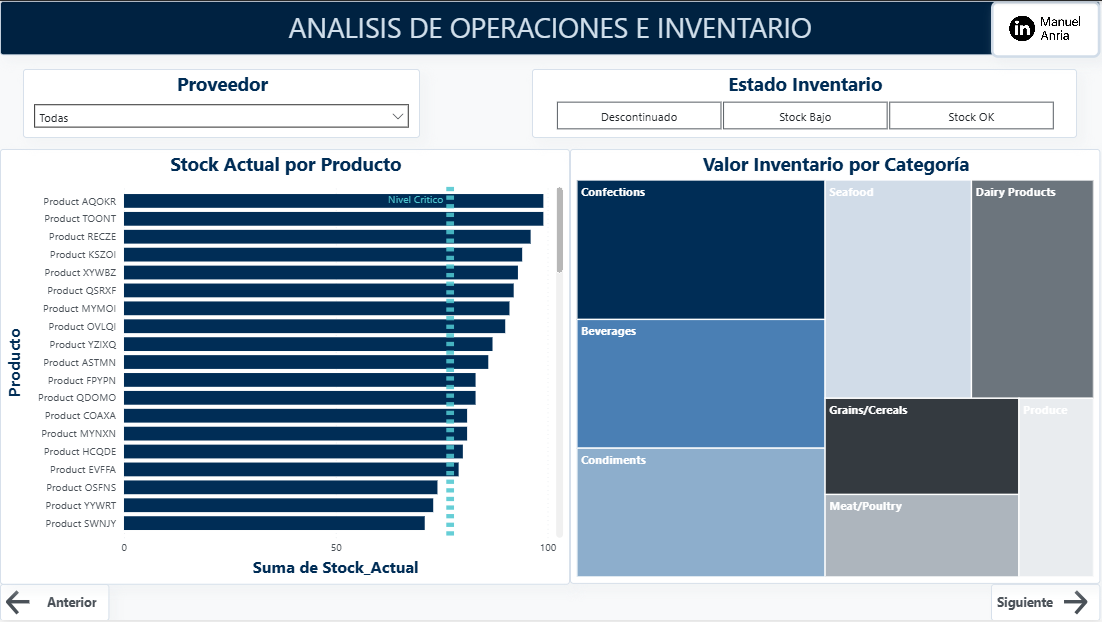

The dashboard page shown, as its layout file describes it:
{"tool":"powerbi","page":{"name":"Operaciones e Inventario","canvas":[1280,720],"ordinal":2},"visuals":[{"type":"textbox","box":[0,0,1277.7,62.7],"z":0},{"type":"actionButton","title":"Página Siguiente","box":[1151.1,677,126.6,43],"z":1000},{"type":"actionButton","title":"Página Siguiente","box":[0,677,126.6,43],"z":2000},{"type":"barChart","title":"Stock Actual por Producto","fields":{"Category":["northwind view_inventory_status.Producto"],"Y":["Sum(northwind view_inventory_status.Stock_Actual)"]},"box":[0,171.6,662,505.5],"z":3000},{"type":"treemap","title":"Valor Inventario por Categoría","fields":{"Values":["CountNonNull(northwind view_inventory_status.Valor_Inventario_Actual)"],"Group":["northwind view_inventory_status.Categoria"]},"box":[662,172,616,505],"z":4000},{"type":"slicer","title":"Proveedor","fields":{"Values":["northwind view_inventory_status.Proveedor"]},"box":[26.7,78.8,461.4,80],"z":5000},{"type":"slicer","title":"Estado Inventario","fields":{"Values":["northwind view_inventory_status.Estado_Inventario"]},"box":[618,78.8,633,80],"z":6000},{"type":"image","box":[1151.1,0,126.6,66.2],"z":7000}]}

Visuals, with their boxes in screenshot pixels (x1, y1, x2, y2), scaled from the page's 1280x720 canvas onto the 1102x622 screenshot:
textbox: bbox=(0, 0, 1100, 54)
"Página Siguiente" actionButton: bbox=(991, 585, 1100, 621)
"Página Siguiente" actionButton: bbox=(0, 585, 109, 621)
"Stock Actual por Producto" barChart: bbox=(0, 148, 570, 585)
"Valor Inventario por Categoría" treemap: bbox=(570, 149, 1100, 585)
"Proveedor" slicer: bbox=(23, 68, 420, 137)
"Estado Inventario" slicer: bbox=(532, 68, 1077, 137)
image: bbox=(991, 0, 1100, 57)
